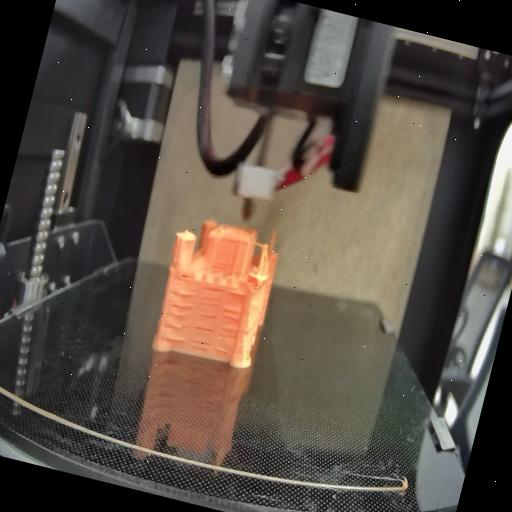cracks: (185, 281, 227, 359), (157, 286, 198, 346), (214, 307, 244, 356), (210, 257, 230, 274), (228, 288, 248, 302), (178, 268, 194, 280)
